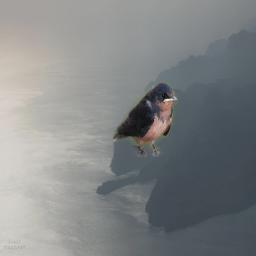Swallow: (113, 81, 178, 157)
